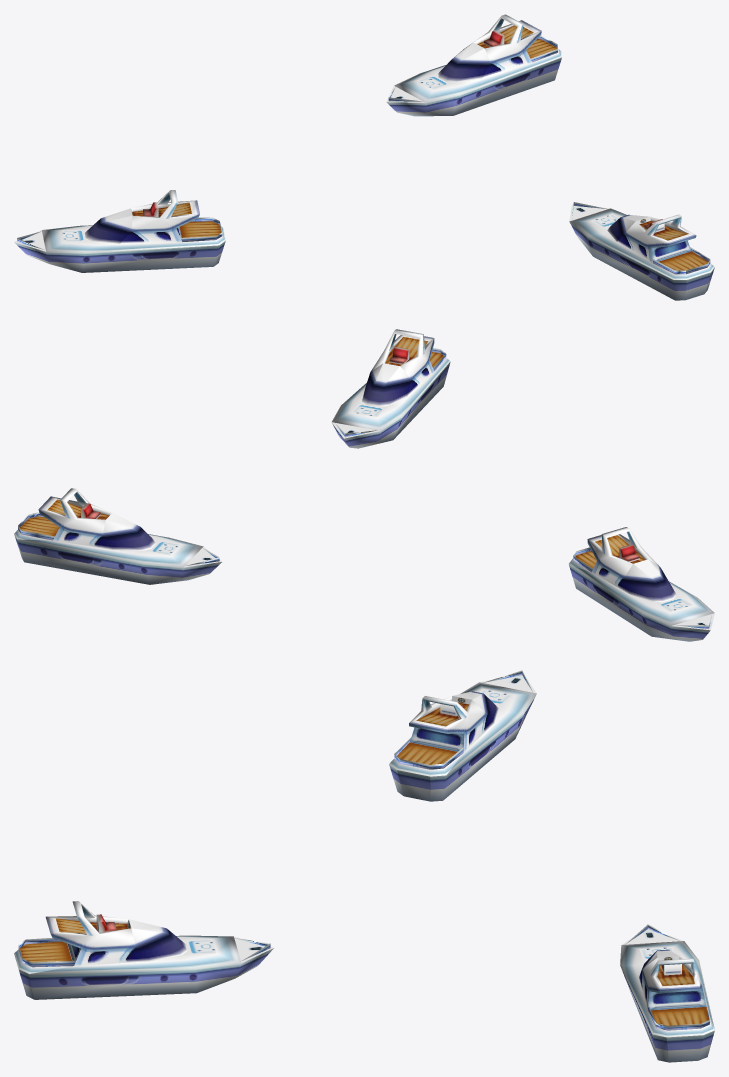
File: FP_jog_island.md.025.obj
The picture shows the model from 3 angles, top to bottom: view 1: azimuth 30°, elevation 25°; view 2: azimuth 150°, elevation 25°; view 3: azimuth 270°, elevation 25°; orthographic projection. The views are drawn at different scales.
Visible parts, largest first — view 1: FP_jog_island.mo.025; view 2: FP_jog_island.mo.025; view 3: FP_jog_island.mo.025.
Boxes of the visible parts, bbox=[...] form: FP_jog_island.mo.025: bbox=[14, 14, 714, 300]; FP_jog_island.mo.025: bbox=[14, 329, 714, 641]; FP_jog_island.mo.025: bbox=[14, 670, 714, 1062].
Size of the model in its own units: 4.04 by 0.4059 by 3.29.
1 material, 1 textured.
